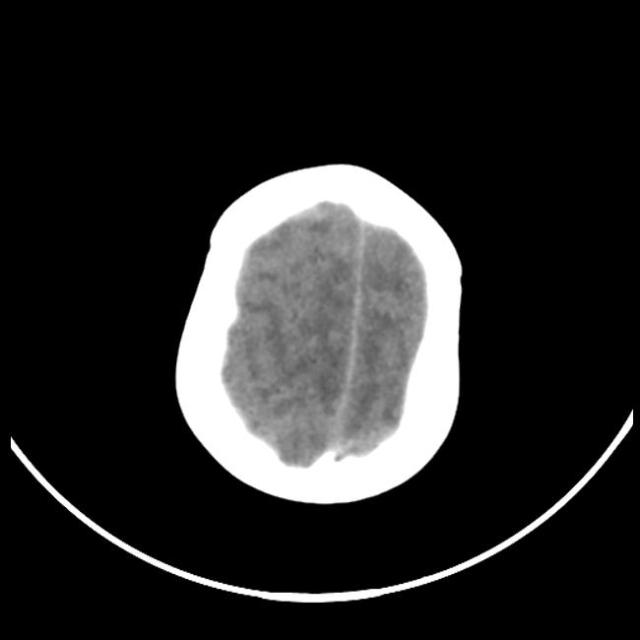lesion: (4, 406, 636, 606)
